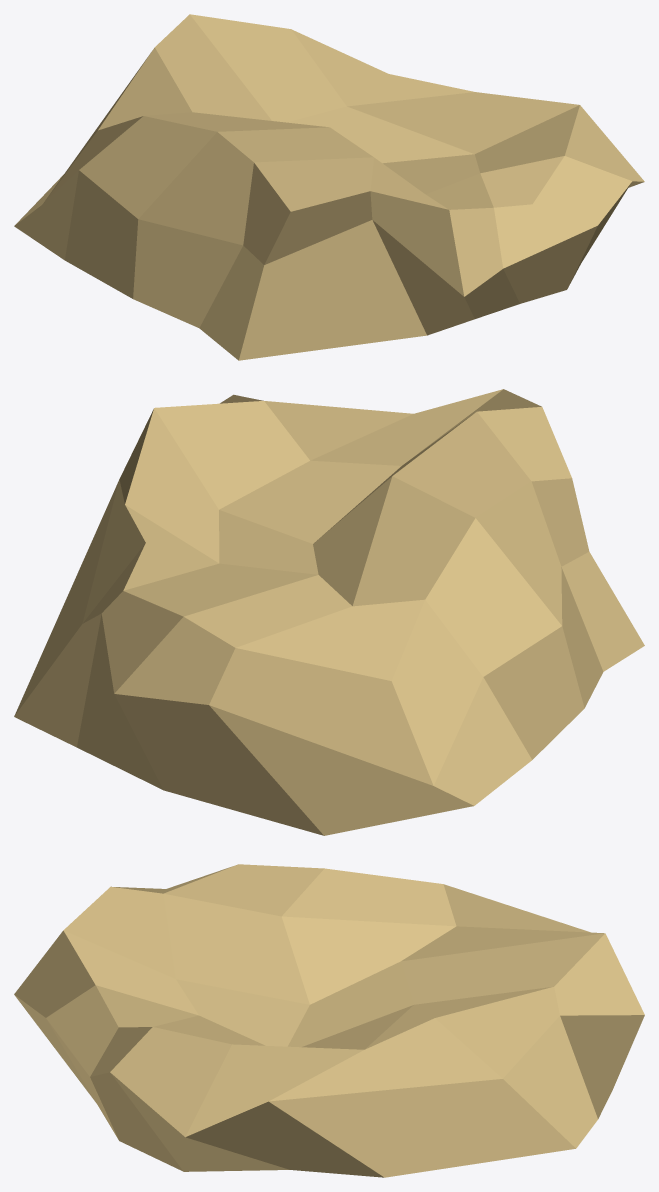
The model's file is Rock4.fbx.
The picture shows the model from 3 angles, top to bottom: view 1: azimuth 30°, elevation 25°; view 2: azimuth 150°, elevation 25°; view 3: azimuth 270°, elevation 25°; orthographic projection. The views are drawn at different scales.
Parts seen in each view (by area): view 1: Cube; view 2: Cube; view 3: Cube.
Part boxes in pixels (x1,y1,x2,y2): Cube: [14, 14, 644, 360]; Cube: [14, 389, 644, 835]; Cube: [14, 864, 644, 1177].
Bounding box in the file's own units: 261 × 102 × 304.
